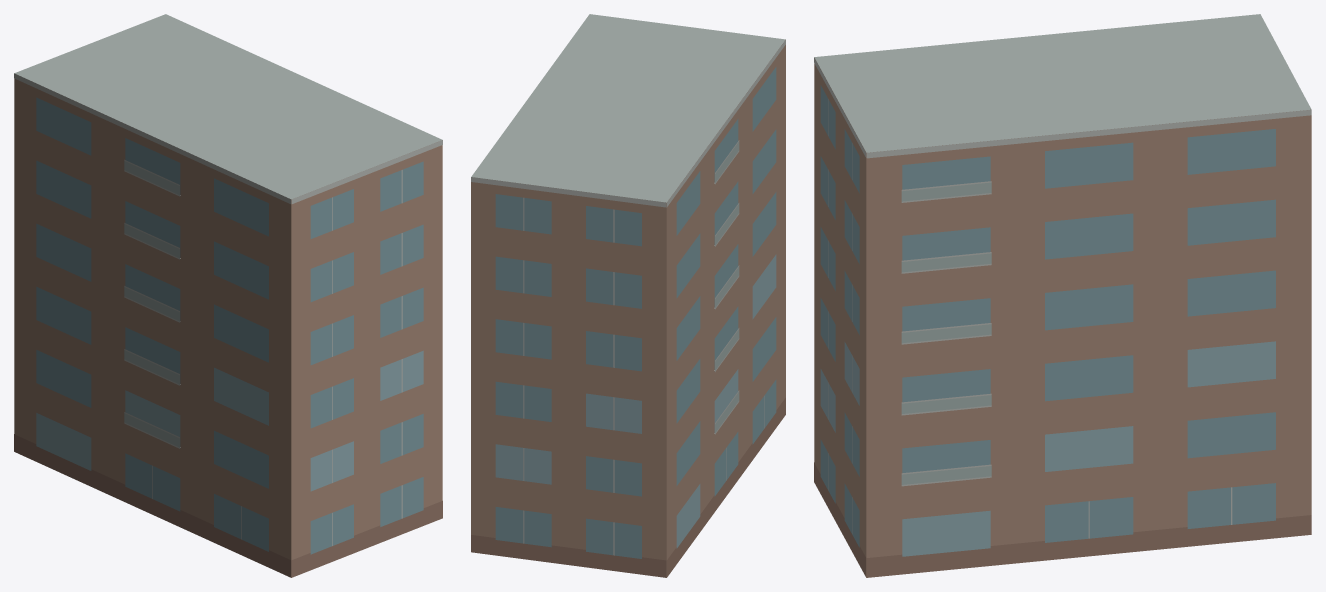
File: survey-upis-32748718.glb
3 views of the same model, side by side, from view 1: azimuth 30°, elevation 25°; view 2: azimuth 150°, elevation 25°; view 3: azimuth 270°, elevation 25° (orthographic). The views are drawn at different scales.
Parts seen in each view (by area): view 1: survey-upis-32748718.tmp; view 2: survey-upis-32748718.tmp; view 3: survey-upis-32748718.tmp.
Part boxes in pixels (left/top/right/bottom): survey-upis-32748718.tmp: left=14, top=14, right=442, bottom=577; survey-upis-32748718.tmp: left=471, top=14, right=785, bottom=577; survey-upis-32748718.tmp: left=814, top=14, right=1311, bottom=577.
Size of the model in its own units: 12.82 by 18.3 by 19.42.
